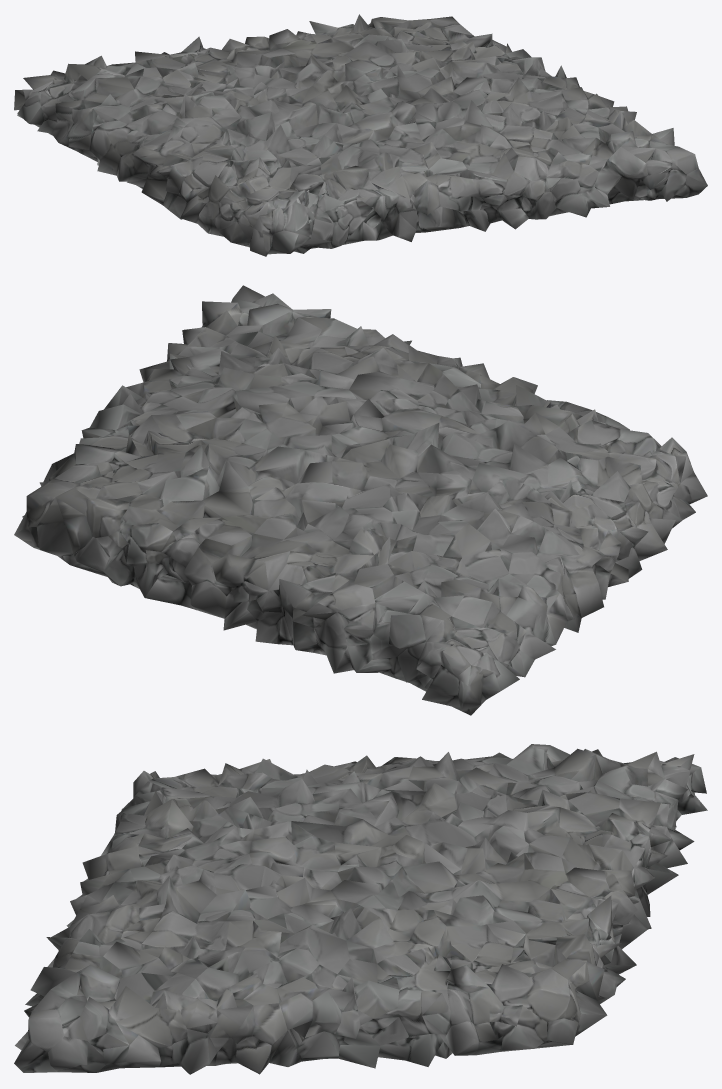
File: gnd_urban_gravel.fbx
3 views of the same model, one above another, from view 1: azimuth 30°, elevation 25°; view 2: azimuth 150°, elevation 25°; view 3: azimuth 270°, elevation 25° (orthographic). The views are drawn at different scales.
Visible parts, largest first — view 1: gnd_urban_gravel_LOD0; view 2: gnd_urban_gravel_LOD0; view 3: gnd_urban_gravel_LOD0.
Boxes of the visible parts, box(x1,y1,x2,y2) form: gnd_urban_gravel_LOD0: box(14, 14, 707, 256); gnd_urban_gravel_LOD0: box(14, 285, 707, 715); gnd_urban_gravel_LOD0: box(14, 744, 707, 1074).
Size of what is drawn, in the model's own units: 0.9775 by 0.1501 by 0.9802.
